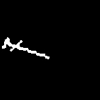double_crochet: (2, 38, 48, 58)
